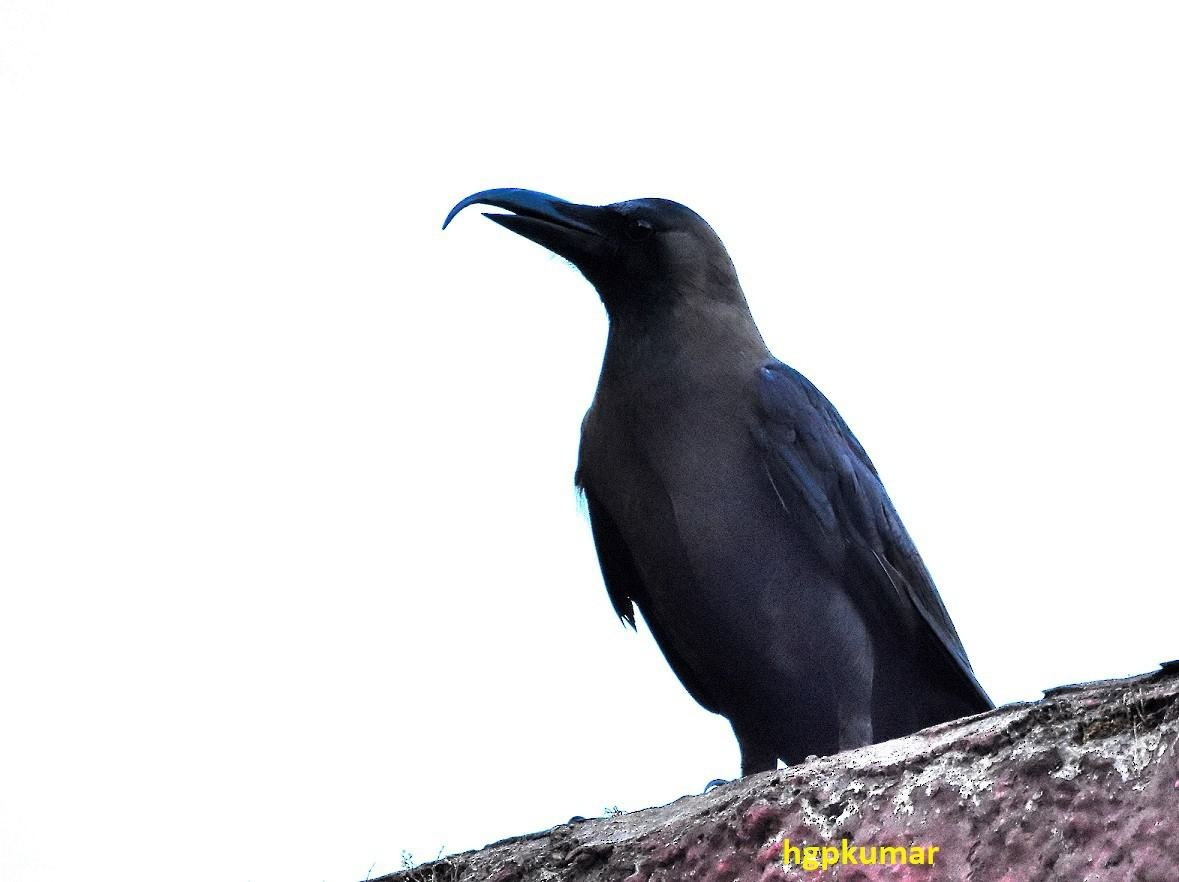crow: (439, 160, 1019, 818)
